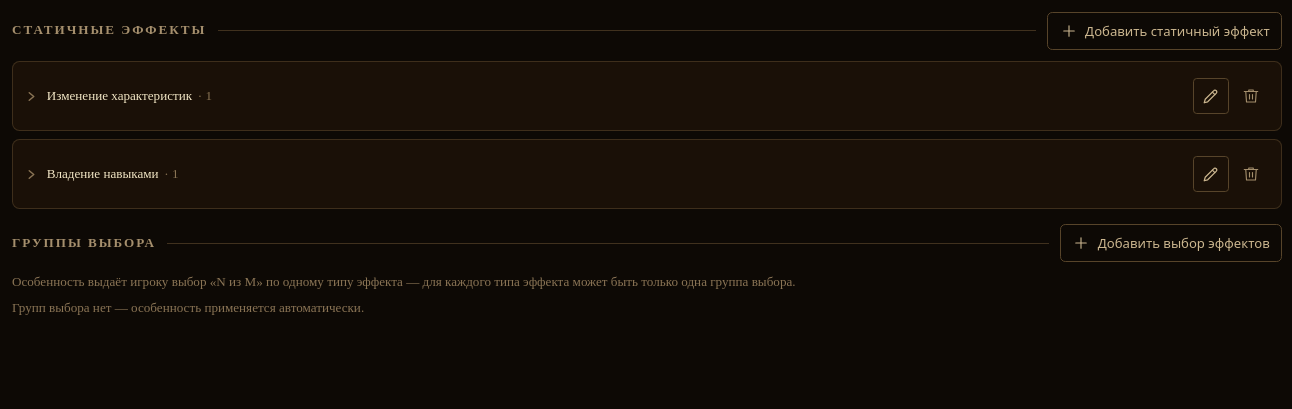
FeatureEffectsEditor › expands the accordion to a read-only preview of what is inside, without opening the modal
Click the button "Изменение характеристик· 1" at (119, 95), box [24,87,1185,105]
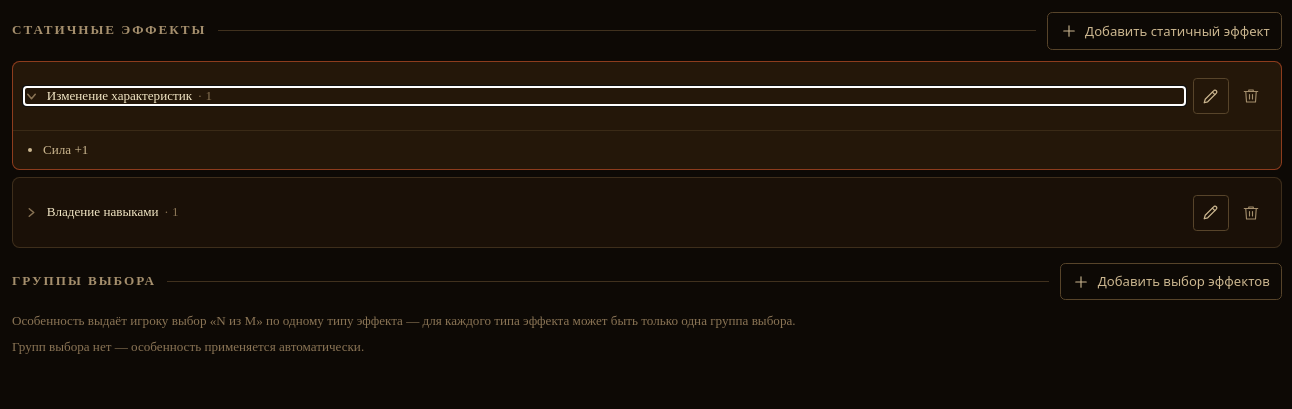
expect the list item "Сила +1" is shown: met, box [43,142,88,157]
Click the button "Владение навыками· 1" at (103, 212), box [24,203,1185,222]
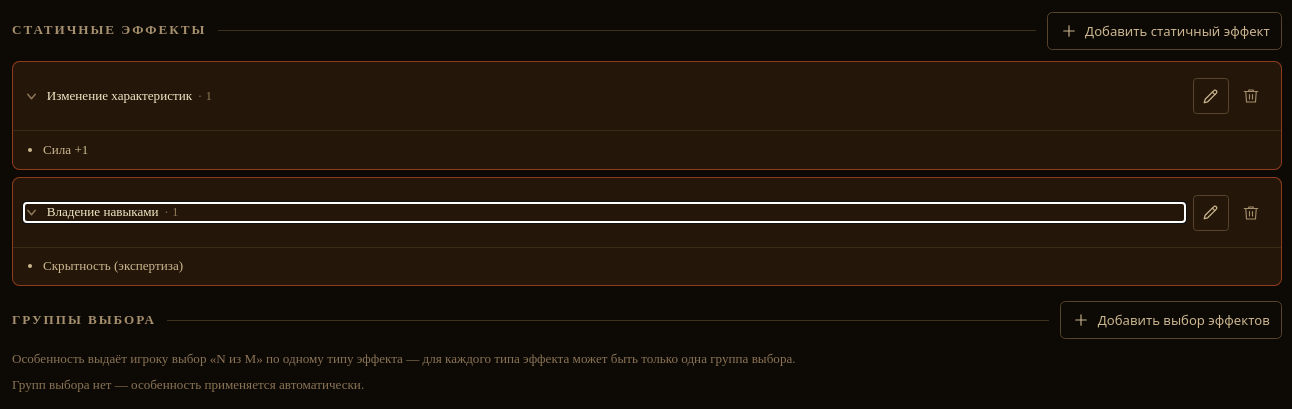
expect the list item "Скрытность (экспертиза)" is shown: met, box [43,258,183,273]
